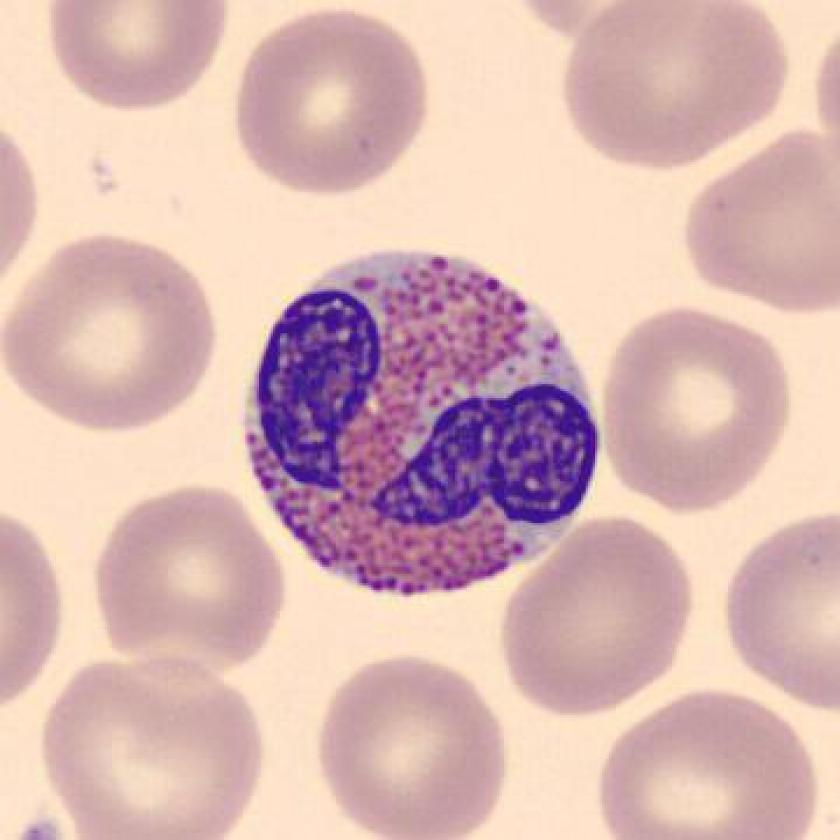eosinophil: (234, 230, 610, 610)
